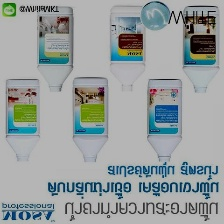cleaning_solution: (179, 1, 221, 96), (107, 3, 148, 92), (142, 77, 184, 163), (35, 3, 74, 94), (70, 76, 110, 164), (3, 76, 40, 164)
